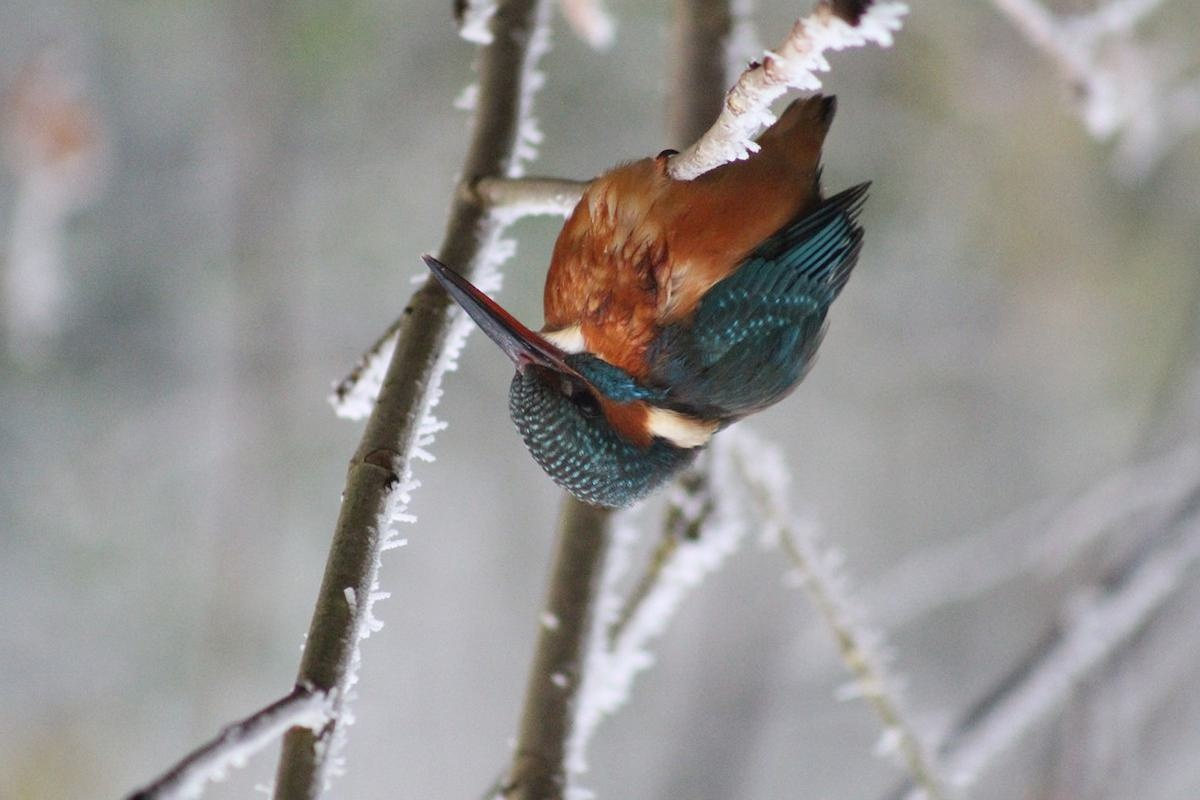kingfisher: (430, 60, 849, 512)
